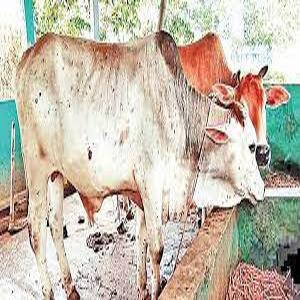lumpy skin diesease: (13, 28, 289, 299)
